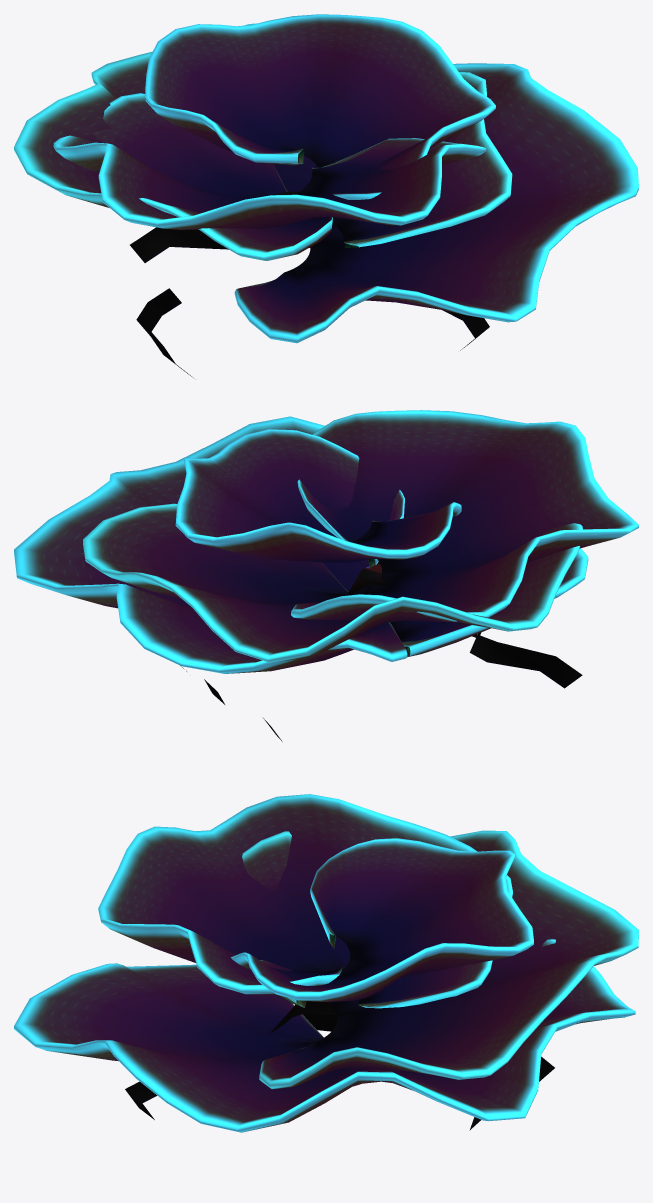
File: coral-montipora-plate.glb
The picture shows the model from 3 angles, top to bottom: view 1: azimuth 30°, elevation 25°; view 2: azimuth 150°, elevation 25°; view 3: azimuth 270°, elevation 25°; orthographic projection.
Parts seen in each view (by area): view 1: Coral_Montipora_Plate; view 2: Coral_Montipora_Plate; view 3: Coral_Montipora_Plate.
Boxes of the visible parts, bbox=[...] form: Coral_Montipora_Plate: bbox=[14, 14, 638, 377]; Coral_Montipora_Plate: bbox=[14, 410, 638, 741]; Coral_Montipora_Plate: bbox=[14, 794, 638, 1132].
Bounding box in the file's own units: 0.2304 × 0.0971 × 0.2407.
Materials: 1 (1 with a texture image).
